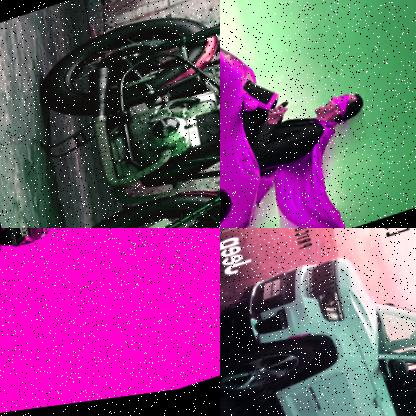bike: (22, 0, 220, 228)
car: (220, 228, 416, 416), (220, 18, 303, 228), (0, 228, 77, 253)
